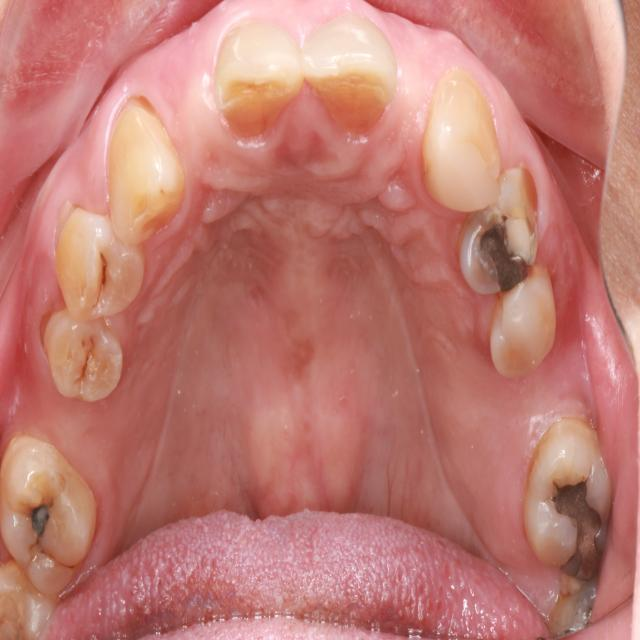tooth: (0, 421, 104, 600), (520, 398, 619, 579), (100, 91, 196, 252), (446, 151, 546, 302), (419, 59, 509, 221), (49, 194, 150, 325), (301, 10, 403, 138), (210, 8, 303, 142), (33, 294, 133, 410), (478, 256, 562, 386), (539, 560, 607, 640), (0, 549, 58, 640)
